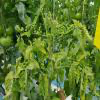Tomato leaf yellow virus: (1, 70, 15, 98), (38, 71, 49, 99), (67, 65, 77, 92), (79, 73, 89, 99), (16, 38, 29, 58), (19, 70, 28, 91), (38, 44, 47, 57), (81, 68, 94, 77), (57, 68, 64, 84), (30, 58, 41, 68), (75, 54, 87, 61), (27, 62, 35, 70), (17, 64, 24, 72)
